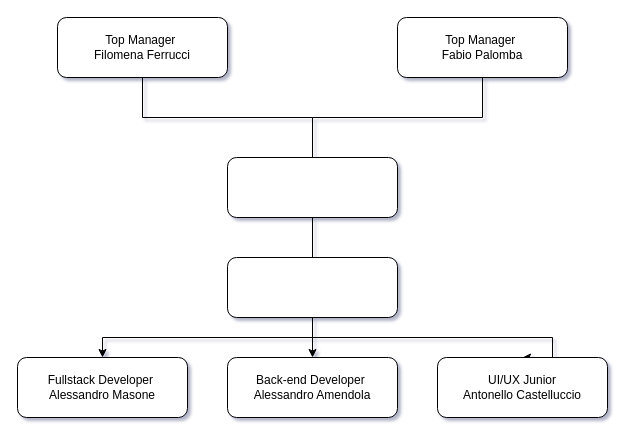
Some shapes in this 631 by 441 pixel diagram are drawn without their labels. The centre of each missing label's shape, as x and y in pixels:
"Project Manager Pasquale Sorrentino" goes at point (312, 187).
"Responsabile Sviluppo Giuseppe Napolitano" goes at point (312, 287).
